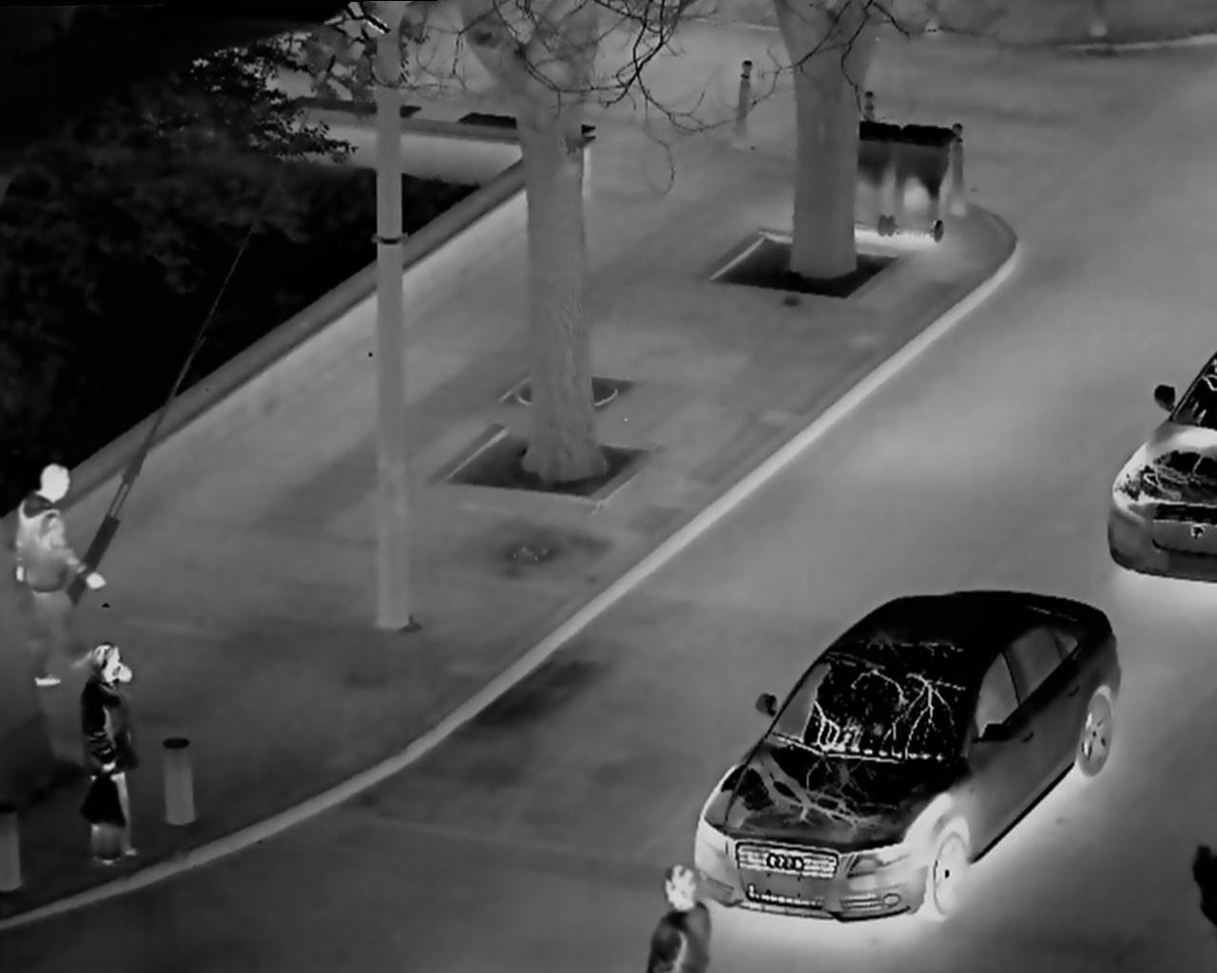person: (63, 632, 161, 891), (14, 447, 99, 692), (626, 845, 725, 968)
